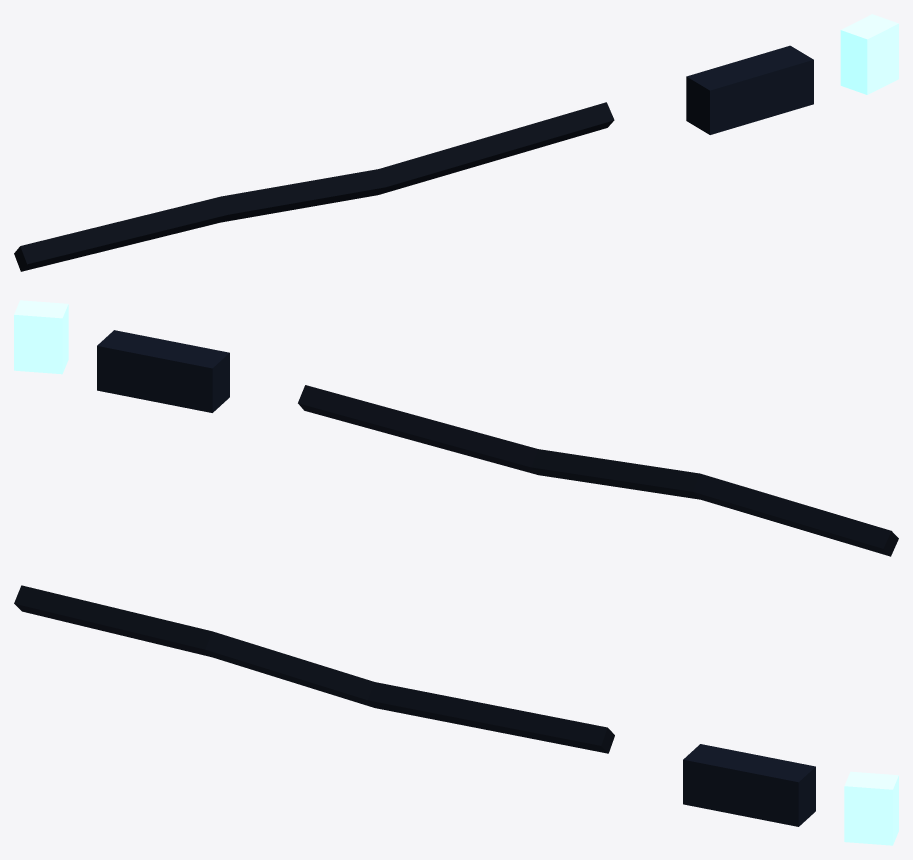
The model's file is WallFoot_Cables.fbx.
3 renders of one model, top to bottom at view 1: azimuth 30°, elevation 25°; view 2: azimuth 150°, elevation 25°; view 3: azimuth 330°, elevation 25°, orthographic.
Parts seen in each view (by area): view 1: KIT_WallFoot_Cables_Mesh; view 2: KIT_WallFoot_Cables_Mesh; view 3: KIT_WallFoot_Cables_Mesh.
Boxes of the visible parts, x1,y1,x2,y2 form: KIT_WallFoot_Cables_Mesh: (14,14,898,271); KIT_WallFoot_Cables_Mesh: (14,300,898,556); KIT_WallFoot_Cables_Mesh: (14,585,898,845).
Size of the model in its own units: 2.46 by 0.15 by 0.1292.
